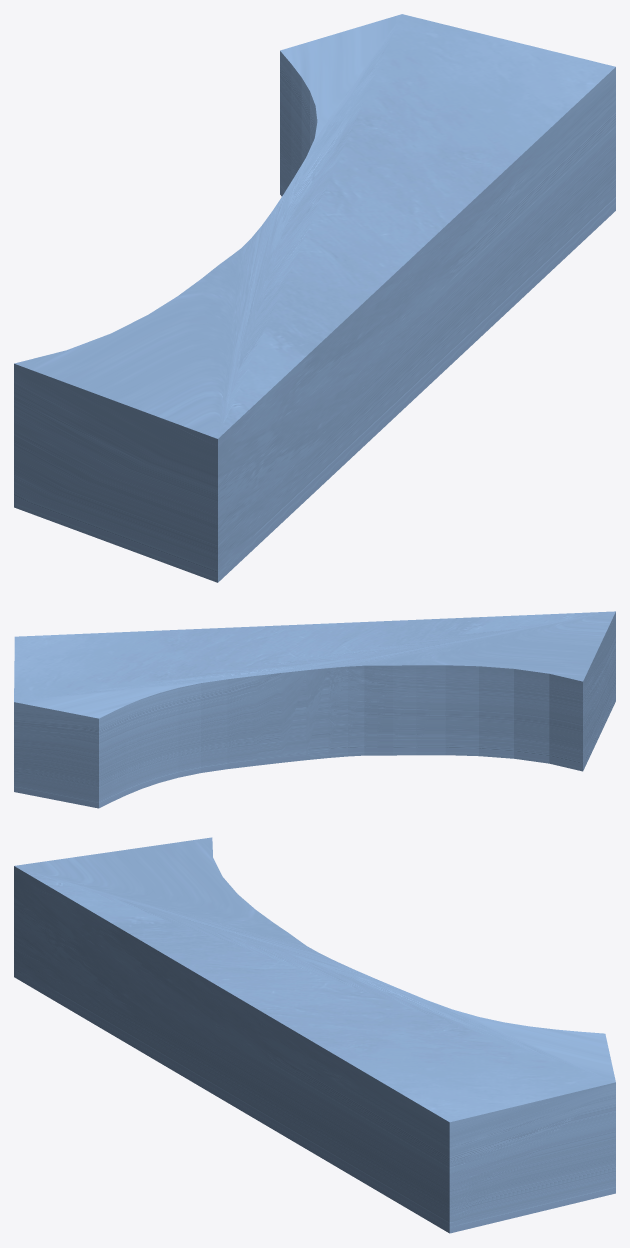
The model's file is bleu2.FBX.
3 renders of one model, top to bottom at view 1: azimuth 30°, elevation 25°; view 2: azimuth 150°, elevation 25°; view 3: azimuth 270°, elevation 25°, orthographic. The views are drawn at different scales.
Parts seen in each view (by area): view 1: Ligne034; view 2: Ligne034; view 3: Ligne034.
Part boxes in pixels (x1,y1,x2,y2): Ligne034: [14, 14, 615, 582]; Ligne034: [14, 611, 615, 808]; Ligne034: [14, 837, 615, 1233].
Bounding box in the file's own units: 24.98 × 4.55 × 22.3.
Materials: 1 (1 with a texture image).
